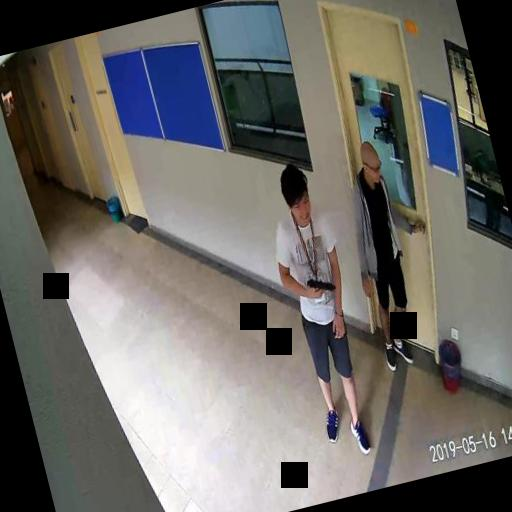Handgun: (305, 272, 336, 300)
